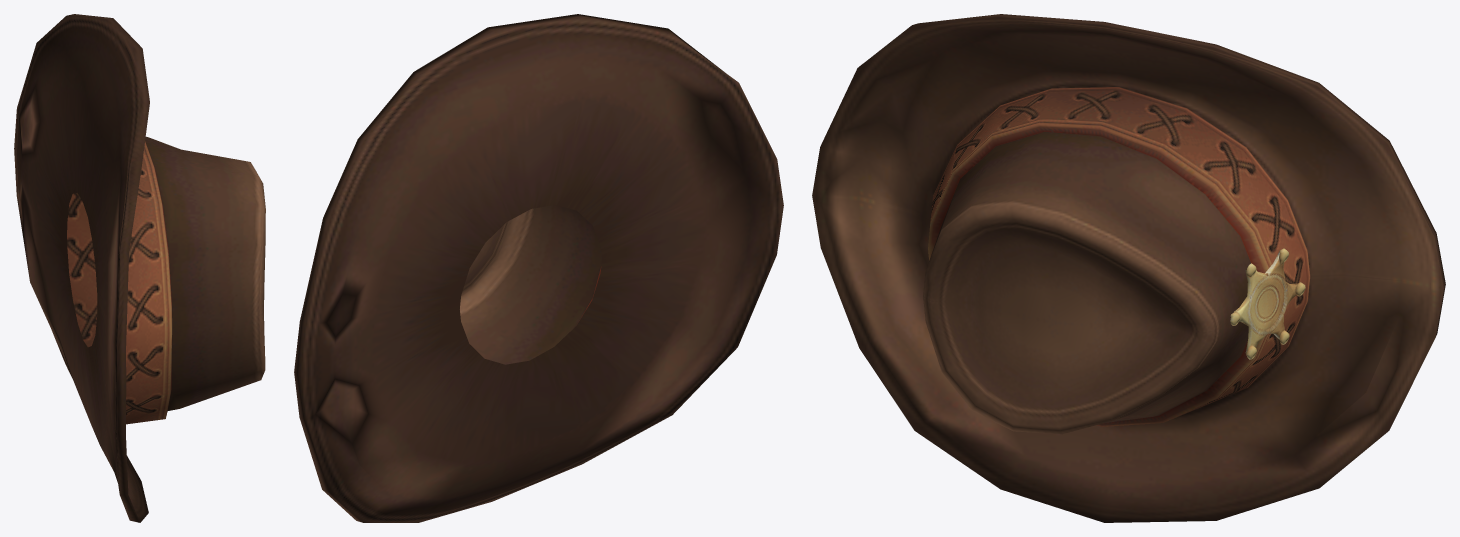
Rendered from F_WesternSheriffHat.fbx.
3 views of the same model, side by side, from view 1: azimuth 30°, elevation 25°; view 2: azimuth 150°, elevation 25°; view 3: azimuth 270°, elevation 25° (orthographic). The views are drawn at different scales.
Parts seen in each view (by area): view 1: 24_star_1_0_0; view 2: 24_star_1_0_0; view 3: 24_star_1_0_0.
Boxes of the visible parts, box(x1,y1,x2,y2) form: 24_star_1_0_0: box(14, 14, 265, 522); 24_star_1_0_0: box(294, 14, 783, 522); 24_star_1_0_0: box(812, 14, 1445, 522).
Bounding box in the file's own units: 0.1124 × 0.1819 × 0.2099.
